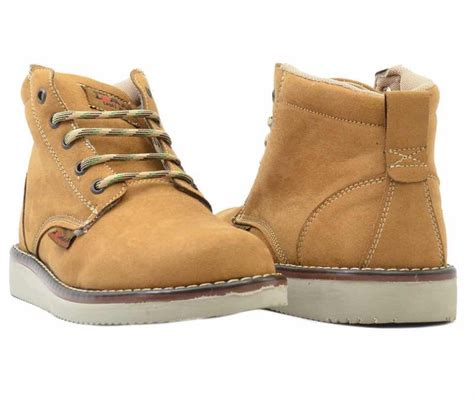gamuza: (16, 61, 449, 291)
